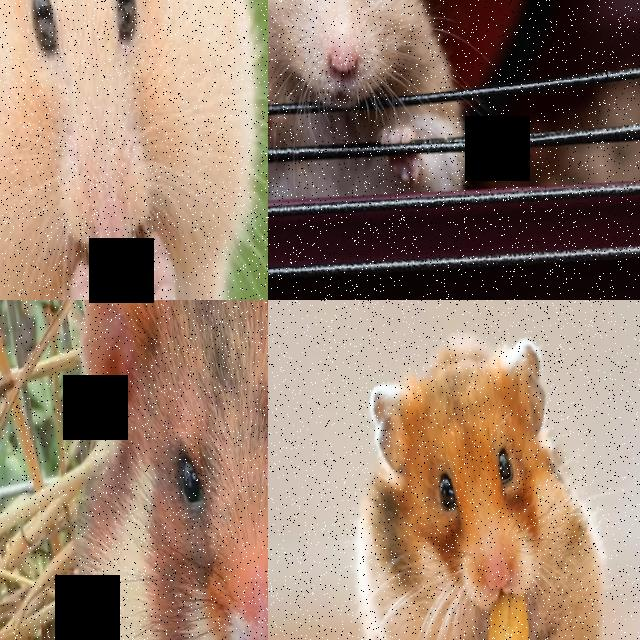hamster: (331, 317, 629, 640), (0, 0, 268, 300), (32, 300, 268, 640), (268, 0, 484, 207)
